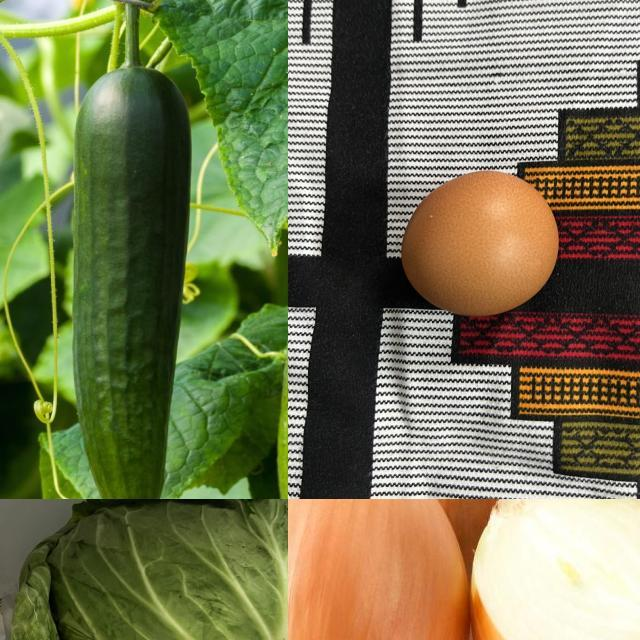cabbage: (1, 500, 289, 640)
cucumber: (63, 63, 197, 500)
egg: (403, 170, 566, 321)
onion: (346, 500, 619, 640), (289, 500, 472, 640), (468, 500, 640, 640)
